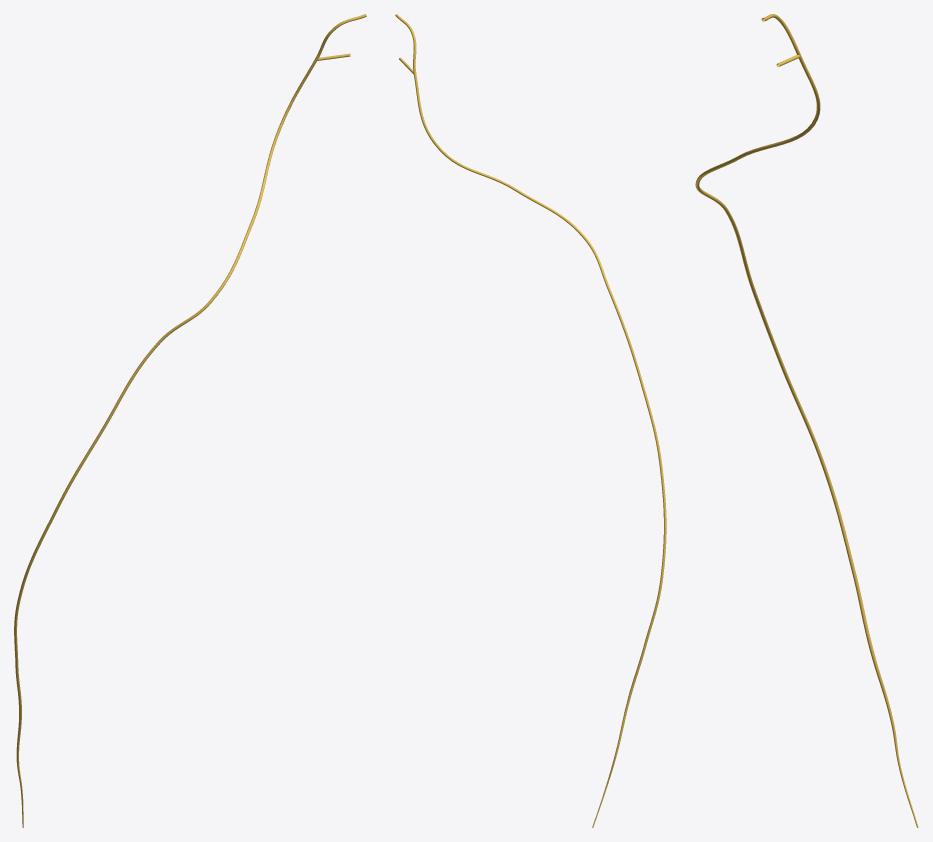
File: Long_thoracic_nerve_right.glb
3 renders of one model, left to right at view 1: azimuth 30°, elevation 25°; view 2: azimuth 150°, elevation 25°; view 3: azimuth 270°, elevation 25°, orthographic. The views are drawn at different scales.
Visible parts, largest first — view 1: Long_thoracic_nerve.r_BezierCurve.514; view 2: Long_thoracic_nerve.r_BezierCurve.514; view 3: Long_thoracic_nerve.r_BezierCurve.514.
Part boxes in pixels (x1,y1,x2,y2): Long_thoracic_nerve.r_BezierCurve.514: (14, 14, 366, 827); Long_thoracic_nerve.r_BezierCurve.514: (395, 14, 666, 827); Long_thoracic_nerve.r_BezierCurve.514: (695, 14, 918, 827).
Size of the model in its own units: 0.1245 by 0.291 by 0.0601.
